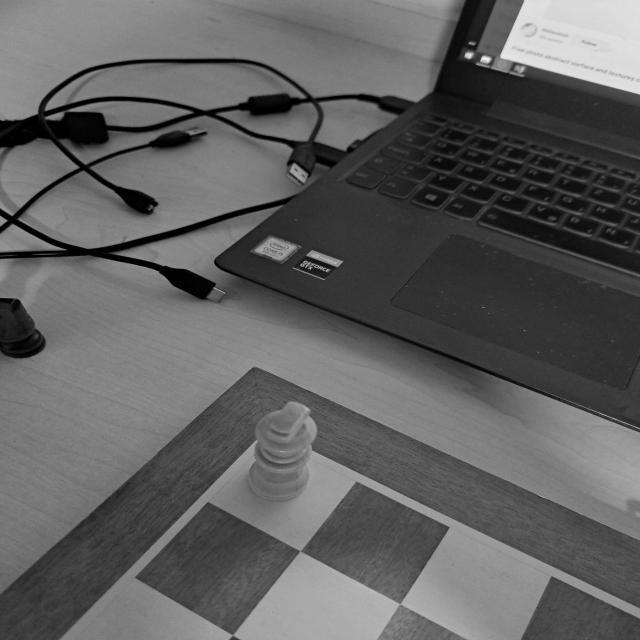chess-table-corners: (222, 426, 332, 469)
